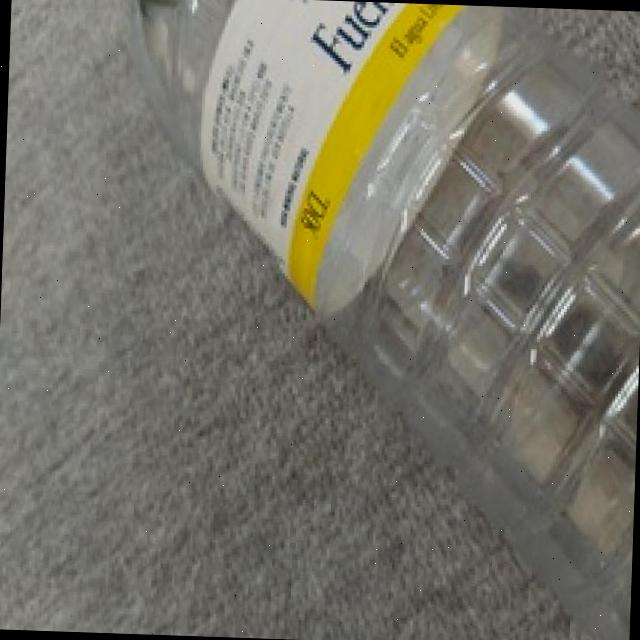bottle: (92, 0, 640, 640)
label: (187, 0, 425, 301)
